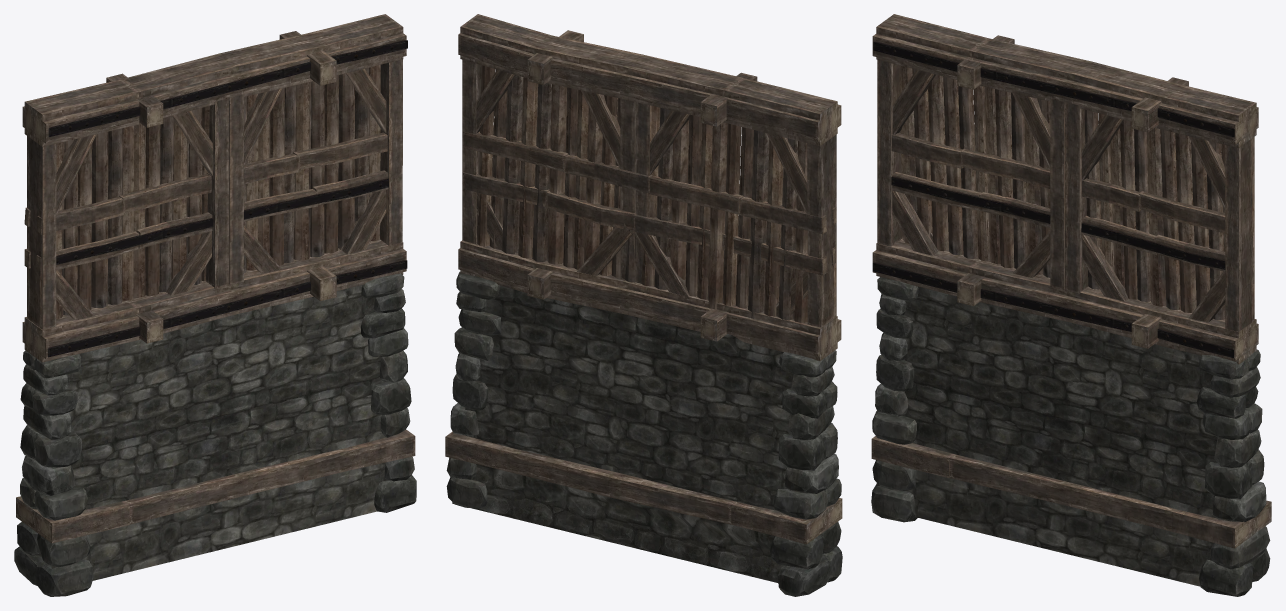
The model's file is jav_struc_def_truestone_walla_nospikes_b-transformed.glb.
3 views of the same model, side by side, from view 1: azimuth 30°, elevation 25°; view 2: azimuth 150°, elevation 25°; view 3: azimuth 330°, elevation 25° (orthographic).
Visible parts, largest first — view 1: default; view 2: default; view 3: default.
Boxes of the visible parts, x1,y1,x2,y2 form: default: (14, 14, 416, 596); default: (445, 14, 842, 596); default: (871, 14, 1271, 596).
Bounding box in the file's own units: 8.3 × 10.27 × 1.7.
Materials: 3 (3 with a texture image).
